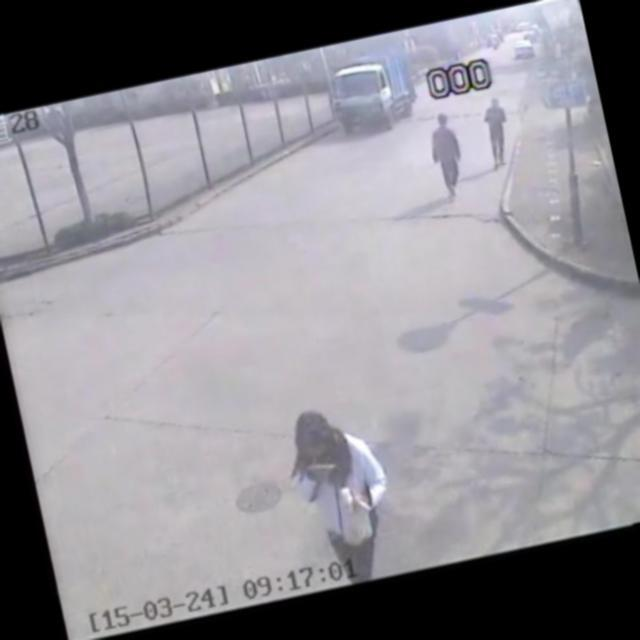person: (266, 366, 420, 600), (408, 90, 478, 212), (472, 82, 528, 181)
